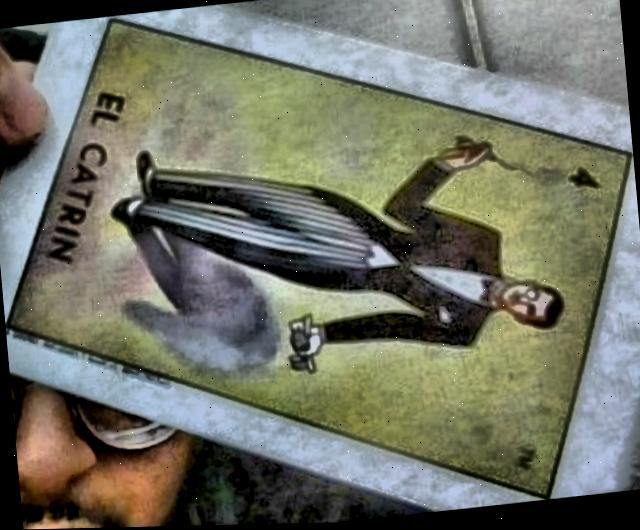El Catrin: (6, 21, 631, 499)
